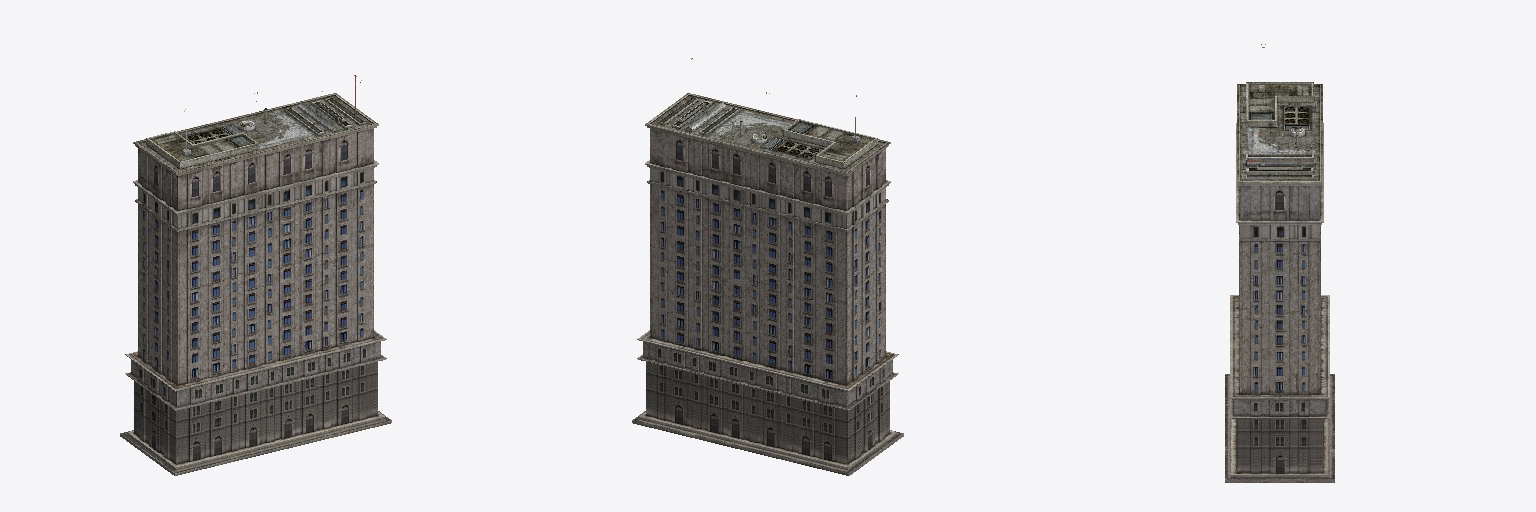
3 views of the same model, side by side, from view 1: azimuth 30°, elevation 25°; view 2: azimuth 150°, elevation 25°; view 3: azimuth 270°, elevation 25° (orthographic).
Visible parts, largest first — view 1: Sat01_2; view 2: Sat01_2; view 3: Sat01_2.
Boxes of the visible parts, <box> form: Sat01_2: <box>120,75,391,475</box>; Sat01_2: <box>632,58,903,475</box>; Sat01_2: <box>1225,44,1334,482</box>.
Bounding box in the file's own units: 62.89 × 96.14 × 27.42.
3 materials, 2 textured.